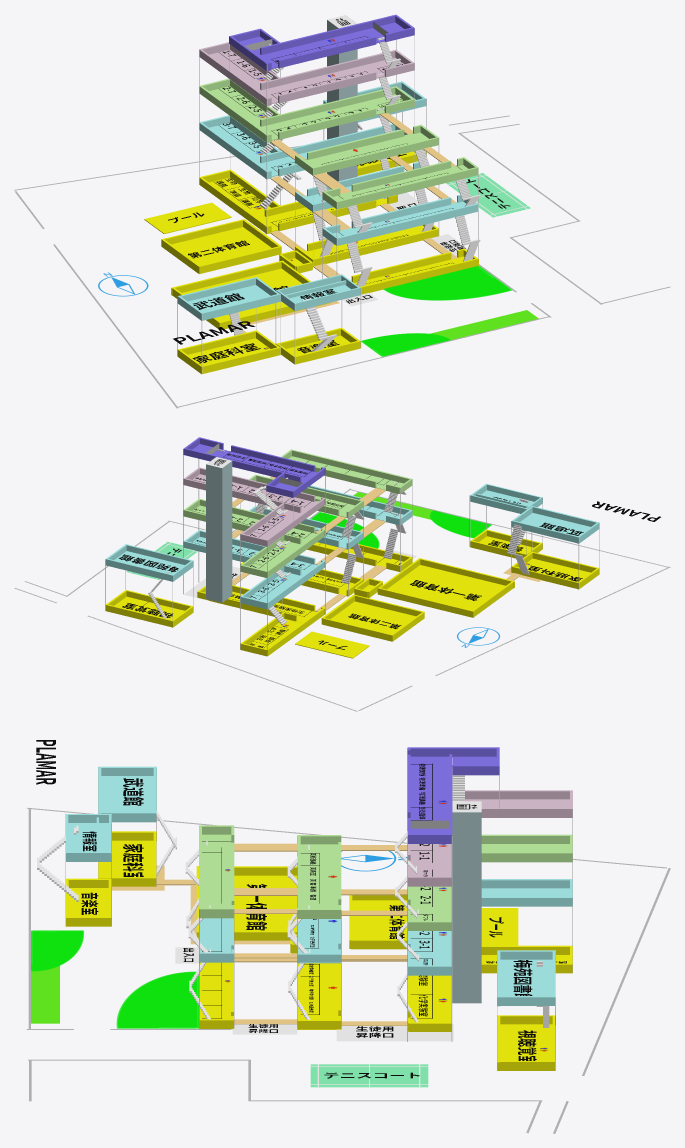
The model's file is kousya.glb.
3 views of the same model, one above another, from view 1: azimuth 30°, elevation 25°; view 2: azimuth 150°, elevation 25°; view 3: azimuth 270°, elevation 25° (orthographic). The views are drawn at different scales.
Visible parts, largest first — view 1: niwa, 3 (3), 3 (2), gym 2, Plane.003, 3TOU, EV, 3 (4), pool, 3 (1), Cube (7).002, Cube (7).001 (+38 smaller); view 2: EV, gym, gym 2, 3 (3), 3 (2), 3 (1), 3TOU, pool, 3 (4), niwa2, Cube (7).002, Cube (1).035 (+33 smaller); view 3: EV, niwa, 3 (4), Plane.003, 2 (2), gym, 3 (2), 3 (1), 1 (3), 2TOU, 3 (3), 3TOU (+28 smaller).
Boxes of the visible parts, box(x1,y1,x2,y2) form: niwa: box(383, 266, 512, 300); 3 (3): box(209, 50, 403, 104); 3 (2): box(209, 86, 404, 141); gym 2: box(171, 227, 271, 265); Plane.003: box(446, 173, 530, 217); 3TOU: box(209, 177, 387, 231); EV: box(327, 16, 357, 181); 3 (4): box(248, 22, 404, 69); pool: box(144, 202, 231, 233); 3 (1): box(209, 123, 384, 177); Cube (7).002: box(338, 167, 478, 208); Cube (7).001: box(338, 203, 478, 245); EV: box(206, 461, 232, 602); gym: box(387, 565, 505, 610); gym 2: box(330, 601, 415, 634); 3 (3): box(184, 474, 324, 546); 3 (2): box(193, 505, 324, 570); 3 (1): box(192, 537, 324, 601); 3TOU: box(229, 591, 316, 648); pool: box(295, 631, 369, 658); 3 (4): box(192, 444, 324, 485); niwa2: box(429, 510, 491, 538); Cube (7).002: box(292, 449, 410, 483); Cube (1).035: box(377, 587, 474, 617); EV: box(452, 801, 481, 1003); niwa: box(116, 971, 198, 1028); 3 (4): box(410, 756, 449, 833); Plane.003: box(310, 1064, 428, 1087); 2 (2): box(299, 844, 341, 918); gym: box(234, 875, 297, 930); 3 (2): box(410, 844, 572, 920); 3 (1): box(410, 888, 572, 965); 1 (3): box(202, 834, 231, 907); 2TOU: box(299, 963, 341, 1029); 3 (3): box(410, 799, 572, 876); 3TOU: box(410, 955, 572, 1022).
Bounding box in the file's own units: 4.75 × 1.41 × 4.04.
51 materials, 6 textured.
